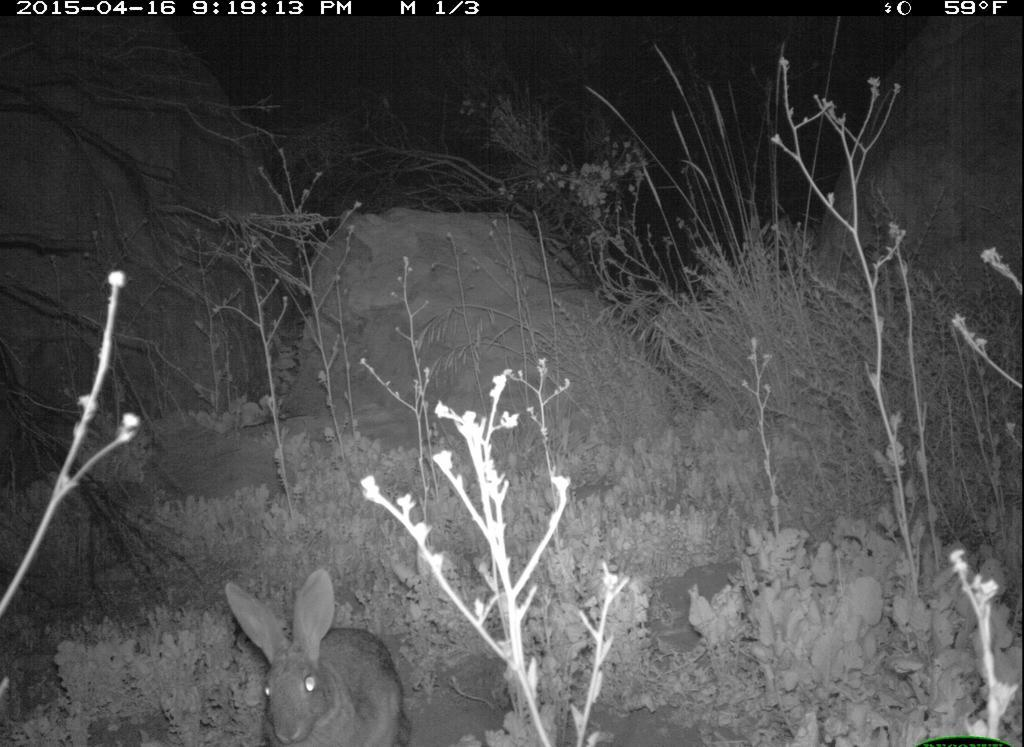rabbit: (222, 560, 423, 747)
